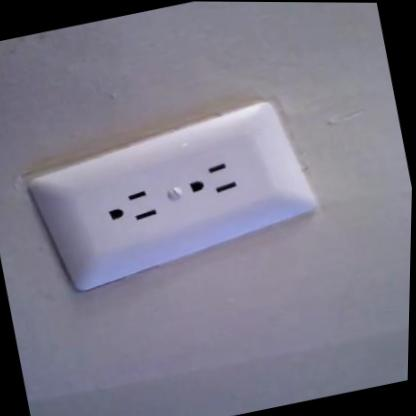OUTLET: (26, 95, 319, 293)
